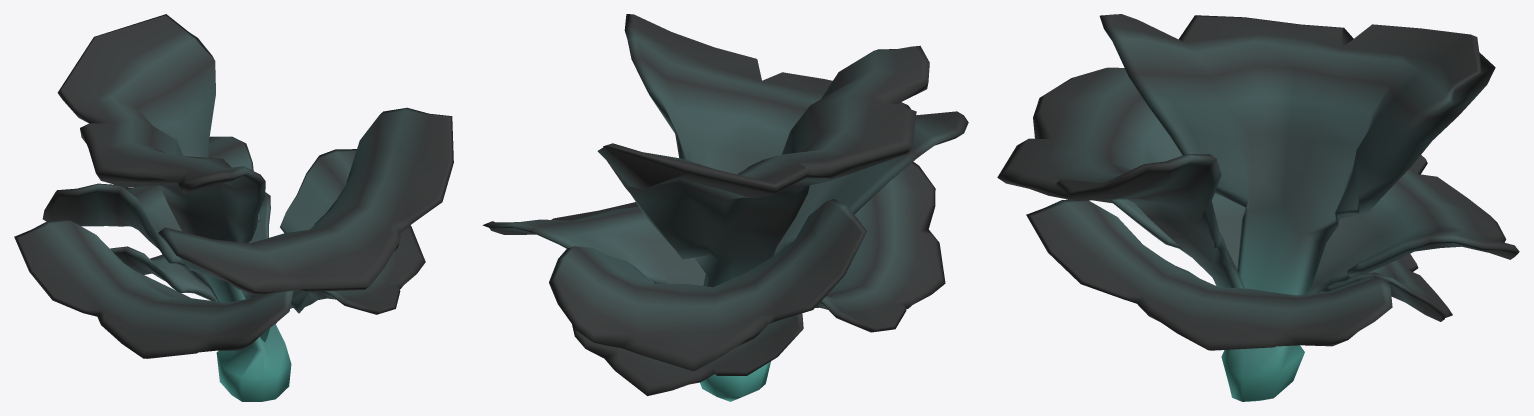
File: plants-mushrooms-ruffled-fungus_v3.glb
3 views of the same model, side by side, from view 1: azimuth 30°, elevation 25°; view 2: azimuth 150°, elevation 25°; view 3: azimuth 270°, elevation 25° (orthographic). The views are drawn at different scales.
Visible parts, largest first — view 1: Ruffled Fungus_v3; view 2: Ruffled Fungus_v3; view 3: Ruffled Fungus_v3.
Part boxes in pixels (bbox=[...]): Ruffled Fungus_v3: bbox=[14, 14, 453, 401]; Ruffled Fungus_v3: bbox=[482, 14, 968, 401]; Ruffled Fungus_v3: bbox=[997, 14, 1519, 401].
Bounding box in the file's own units: 0.175 × 0.1424 × 0.2.
